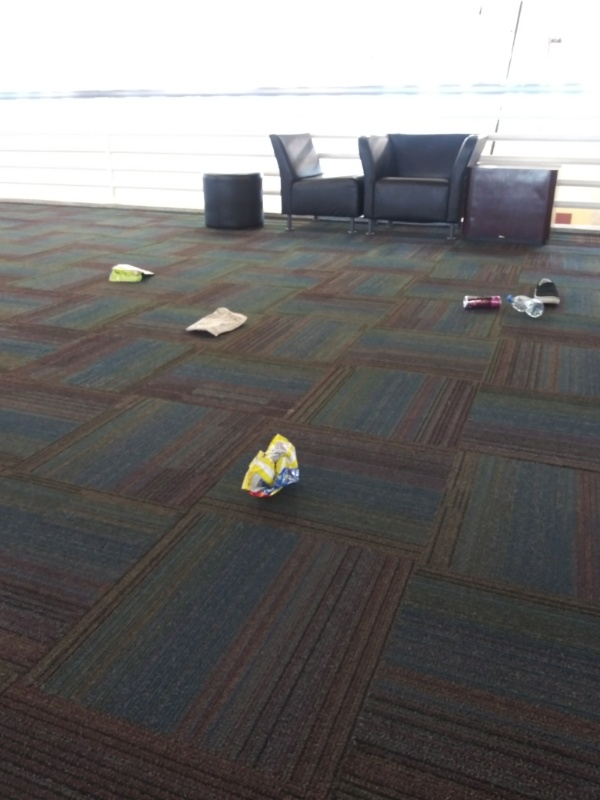bag: (235, 430, 306, 501), (182, 301, 251, 342), (107, 259, 155, 290)
bottle: (502, 289, 544, 320)
can: (457, 291, 506, 313)
